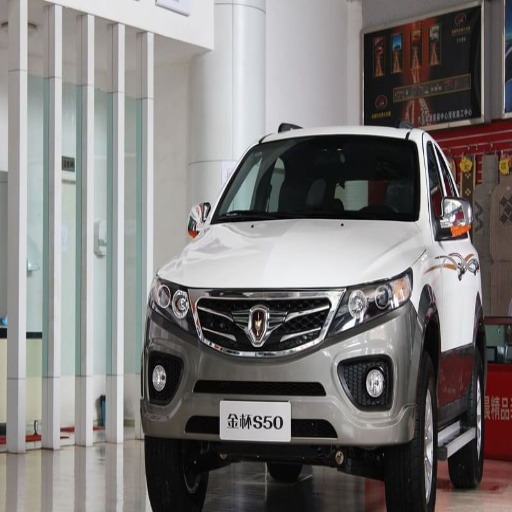front_bumper: (144, 285, 422, 454)
front_glass: (211, 140, 441, 222)
front_left_door: (431, 188, 465, 328)
